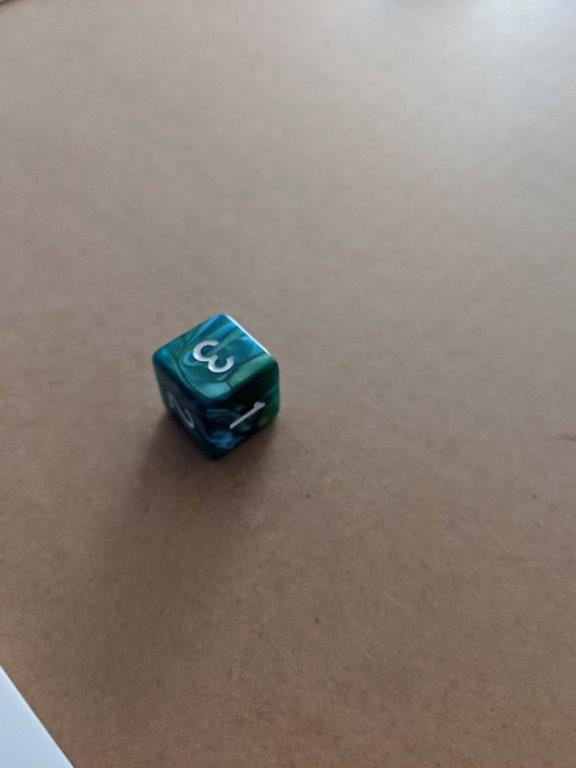d6-3: (154, 310, 283, 460)
